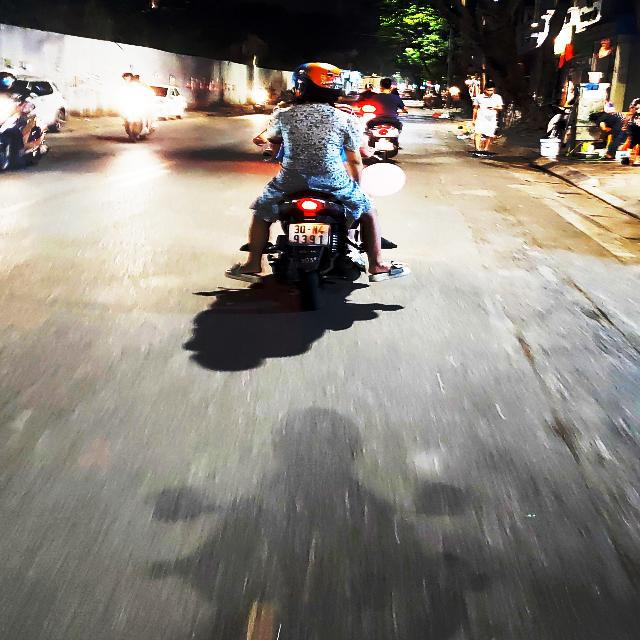license_plate: (286, 223, 333, 248)
